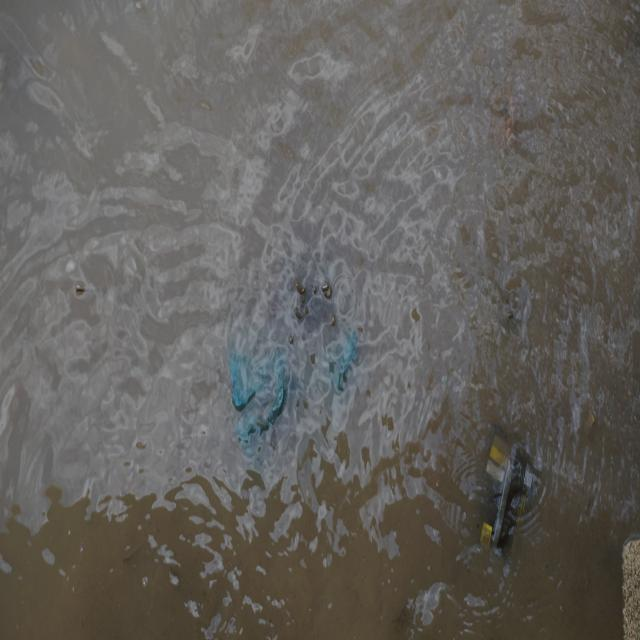Bungkus Minuman: (477, 428, 540, 565)
Kantong Plastik: (225, 290, 356, 460)
